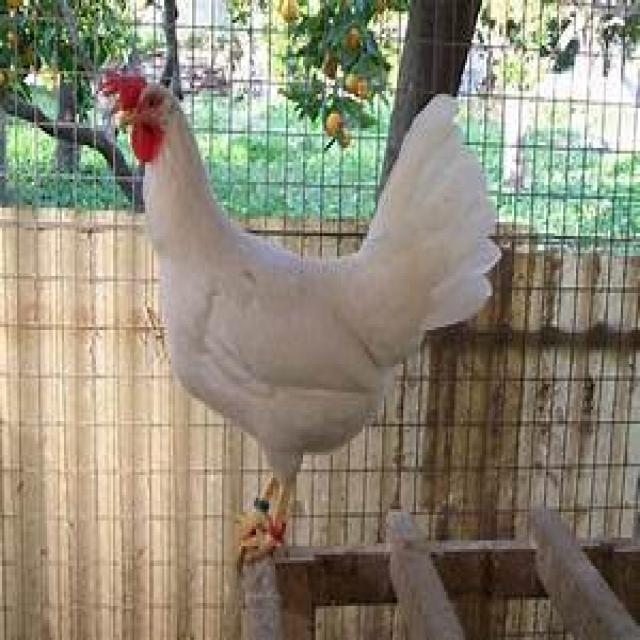hen: (92, 68, 503, 515)
